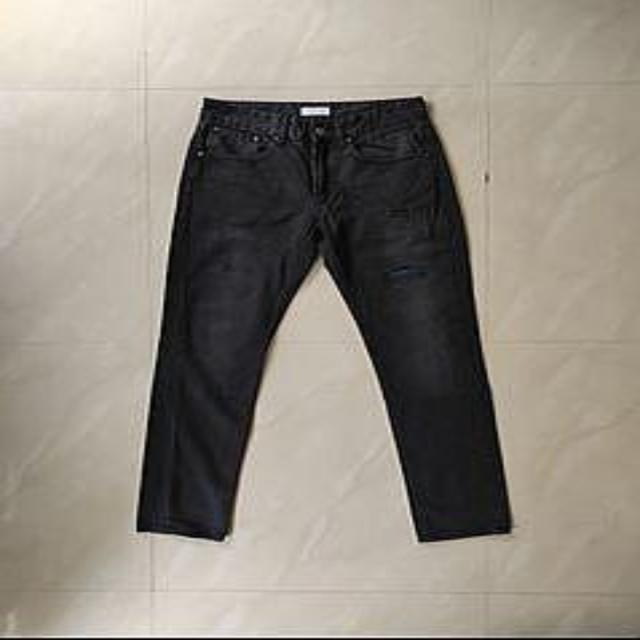TROUSER: (128, 87, 522, 546)
